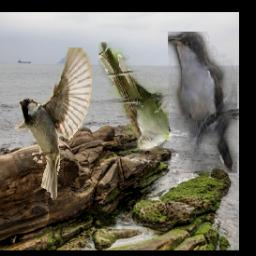Cuckoo: (168, 32, 237, 173), (98, 42, 168, 159)
Sparrow: (13, 44, 92, 201)
